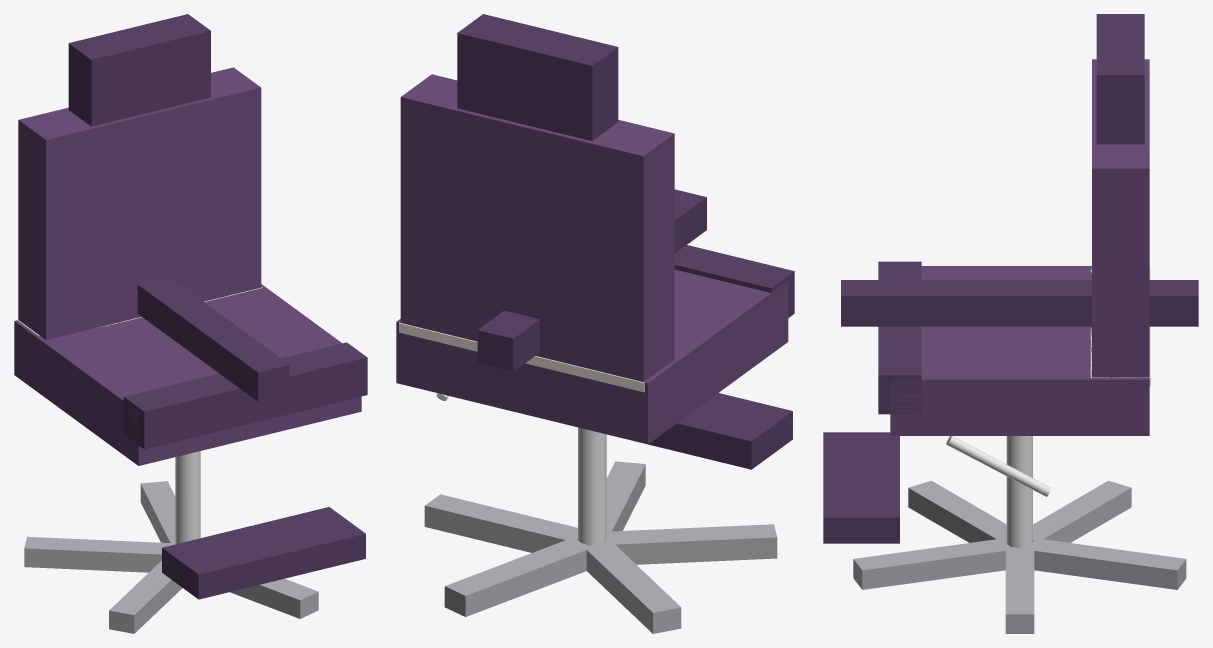
Rendered from barber_chair.glb.
3 views of the same model, side by side, from view 1: azimuth 30°, elevation 25°; view 2: azimuth 150°, elevation 25°; view 3: azimuth 270°, elevation 25° (orthographic). The views are drawn at different scales.
Parts seen in each view (by area): view 1: backrest, seat, headrest, seat_front_roll, footrest, armrest_-230, star_leg_2, star_leg_3, hydraulic_column, star_leg_4, armrest_230, star_leg_1; view 2: backrest, seat, headrest, footrest, star_leg_3, star_leg_1, star_leg_0, star_leg_2, seat_front_roll, hydraulic_column, armrest_230, star_leg_4 (+2 smaller); view 3: seat, backrest, armrest_-230, footrest, armrest_230, headrest, star_leg_4, star_leg_1, seat_front_roll, star_leg_2, star_leg_3, hydraulic_column (+2 smaller).
Part boxes in pixels (<box>): backrest: <box>18,67,261,339</box>; seat: <box>14,284,361,465</box>; headrest: <box>68,14,210,126</box>; seat_front_roll: <box>123,342,367,449</box>; footrest: <box>162,507,365,599</box>; armrest_-230: <box>152,295,289,401</box>; star_leg_2: <box>24,536,175,572</box>; star_leg_3: <box>109,560,182,633</box>; hydraulic_column: <box>175,451,200,544</box>; star_leg_4: <box>230,578,318,618</box>; armrest_230: <box>137,276,215,329</box>; star_leg_1: <box>140,481,175,543</box>; backrest: <box>400,74,674,381</box>; seat: <box>396,269,788,444</box>; headrest: <box>457,14,618,140</box>; footrest: <box>648,393,792,469</box>; star_leg_3: <box>605,524,777,564</box>; star_leg_1: <box>444,539,592,616</box>; star_leg_0: <box>424,494,577,552</box>; star_leg_2: <box>586,542,681,633</box>; seat_front_roll: <box>674,245,794,317</box>; hydraulic_column: <box>578,427,606,545</box>; armrest_230: <box>477,310,539,371</box>; star_leg_4: <box>606,461,645,531</box>; seat: <box>890,266,1149,435</box>; backrest: <box>1092,59,1149,377</box>; armrest_-230: <box>841,280,1061,326</box>; footrest: <box>823,432,899,543</box>; armrest_230: <box>978,280,1198,326</box>; headrest: <box>1096,14,1144,144</box>; star_leg_4: <box>853,539,1010,589</box>; star_leg_1: <box>1029,538,1186,589</box>; seat_front_roll: <box>878,261,921,414</box>; star_leg_2: <box>1033,480,1131,542</box>; star_leg_3: <box>908,480,1006,542</box>; hydraulic_column: <box>1006,436,1032,547</box>.
Bounding box in the file's own units: 0.6598 × 1.19 × 0.7826.
